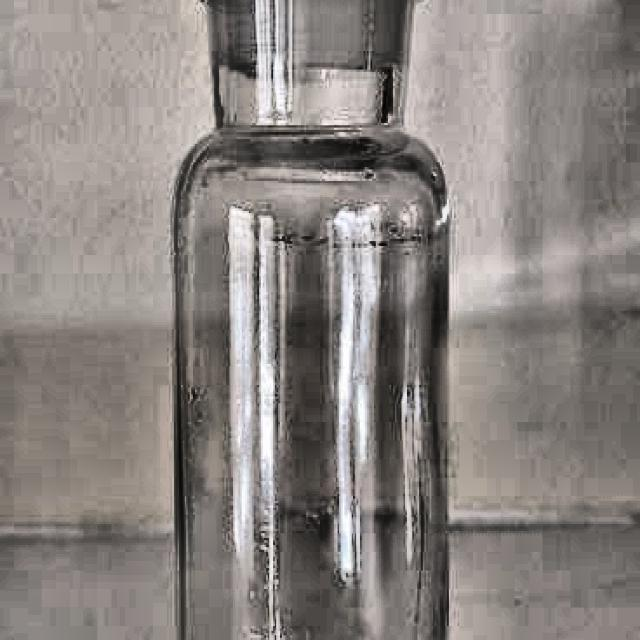glass: (171, 0, 450, 640)
